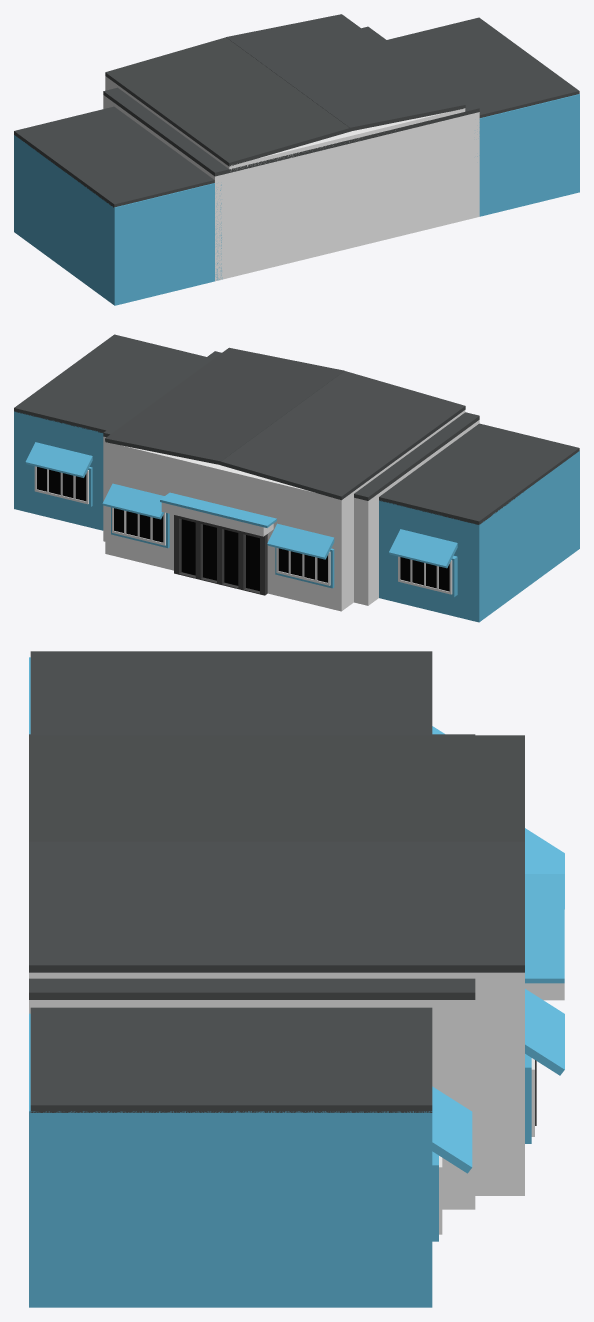
The model's file is StudentService.glb.
The picture shows the model from 3 angles, top to bottom: view 1: azimuth 30°, elevation 25°; view 2: azimuth 150°, elevation 25°; view 3: azimuth 270°, elevation 25°; orthographic projection. The views are drawn at different scales.
Parts seen in each view (by area): view 1: cube.040; view 2: cube.040; view 3: cube.040.
Part boxes in pixels (x1,y1,x2,y2): cube.040: (14,14,579,305); cube.040: (14,334,579,622); cube.040: (29,651,564,1307).
Bounding box in the file's own units: 4.06 × 1.01 × 2.03.
Materials: 6 (6 with a texture image).
